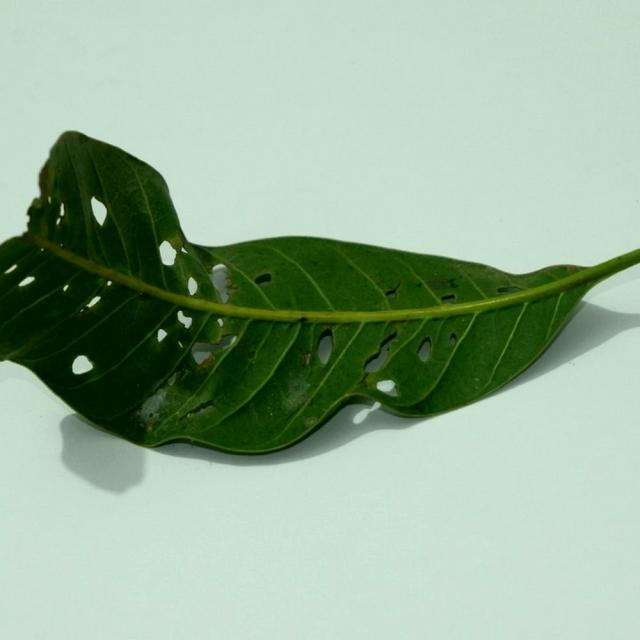Anthracnose: (305, 327, 342, 371), (190, 337, 235, 367), (83, 200, 114, 240), (364, 338, 394, 374), (181, 398, 217, 421), (70, 354, 95, 374), (157, 239, 178, 262), (209, 263, 229, 287), (379, 330, 398, 353), (416, 336, 432, 362), (90, 198, 106, 224), (191, 342, 210, 363), (376, 378, 397, 394), (217, 334, 237, 350), (177, 309, 192, 329), (253, 272, 273, 286), (186, 275, 199, 296), (85, 295, 102, 310), (18, 275, 36, 288), (384, 284, 400, 298), (156, 327, 169, 343), (359, 372, 372, 387), (175, 242, 188, 256), (497, 286, 520, 293), (137, 291, 152, 301), (76, 305, 91, 315), (167, 372, 177, 386), (440, 293, 455, 302), (449, 332, 458, 346), (216, 317, 225, 327), (61, 283, 70, 293), (247, 349, 256, 358), (298, 316, 309, 323), (106, 280, 112, 288), (417, 283, 423, 287)
Mango: (0, 132, 639, 461)
